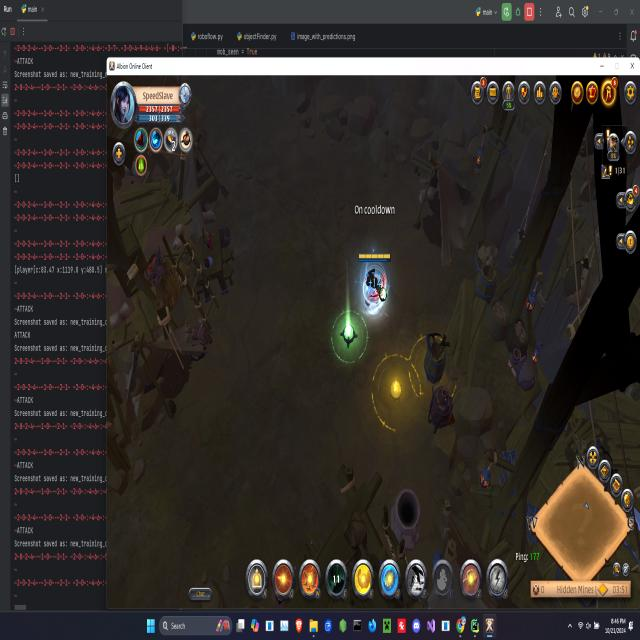red: (354, 248, 398, 326)
